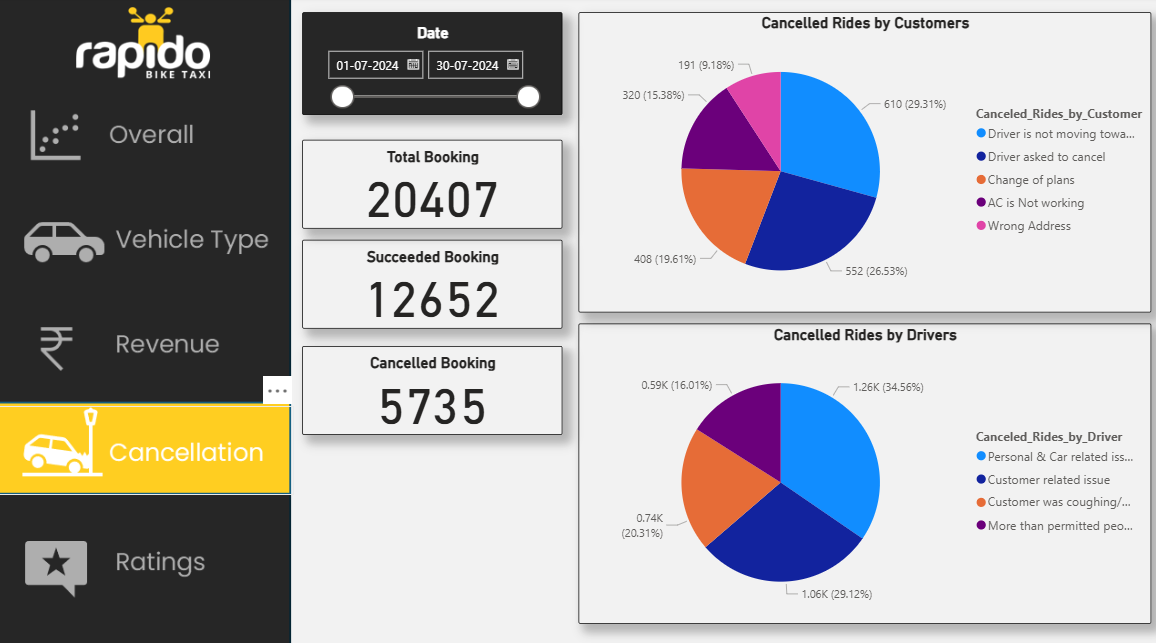

This screenshot's page, from the dashboard's own definition file:
{"tool":"powerbi","page":{"name":"Cancellation","canvas":[1280,720],"ordinal":3},"visuals":[{"type":"actionButton","box":[0,218.9,326.1,97.1],"z":0},{"type":"actionButton","box":[0,335,326.1,97.1],"z":1000},{"type":"actionButton","box":[0,450,326.1,97.1],"z":2000},{"type":"actionButton","box":[0,575.1,326.1,97.1],"z":3000},{"type":"actionButton","box":[0,109.4,326.1,97.1],"z":4000},{"type":"pieChart","title":"Cancelled Rides by Customers","fields":{"Category":["July.Canceled_Rides_by_Customer"],"Y":["CountNonNull(July.Canceled_Rides_by_Customer)"]},"box":[639.5,17.8,628.5,329.3],"z":5000},{"type":"pieChart","title":"Cancelled Rides by Drivers","fields":{"Category":["July.Canceled_Rides_by_Driver"],"Y":["CountNonNull(July.Canceled_Rides_by_Driver)"]},"box":[639.5,359.5,628.5,329.3],"z":6000},{"type":"slicer","title":"Date","fields":{"Values":["July.Date"]},"box":[336.2,17.8,285.4,112.5],"z":7000},{"type":"card","title":"Total Booking","fields":{"Values":["CountNonNull(July.Booking_ID)"]},"box":[336.2,157.8,285.4,97.4],"z":8000},{"type":"card","title":"Succeeded Booking","fields":{"Values":["CountNonNull(July.Booking_ID)"]},"box":[336.2,267.6,285.4,97.4],"z":9000},{"type":"card","title":"Cancelled Booking","fields":{"Values":["CountNonNull(July.Booking_ID)"]},"box":[336.2,384.2,285.4,97.4],"z":10000}]}

Visuals, with their boxes in screenshot pixels (x1, y1, x2, y2):
actionButton: [x1=0, y1=194, x2=289, y2=283]
actionButton: [x1=0, y1=300, x2=289, y2=389]
actionButton: [x1=0, y1=406, x2=289, y2=494]
actionButton: [x1=0, y1=520, x2=289, y2=609]
actionButton: [x1=0, y1=94, x2=289, y2=183]
"Cancelled Rides by Customers" pieChart: [x1=576, y1=10, x2=1151, y2=312]
"Cancelled Rides by Drivers" pieChart: [x1=576, y1=323, x2=1151, y2=624]
"Date" slicer: [x1=299, y1=10, x2=560, y2=113]
"Total Booking" card: [x1=299, y1=138, x2=560, y2=227]
"Succeeded Booking" card: [x1=299, y1=239, x2=560, y2=328]
"Cancelled Booking" card: [x1=299, y1=345, x2=560, y2=435]
